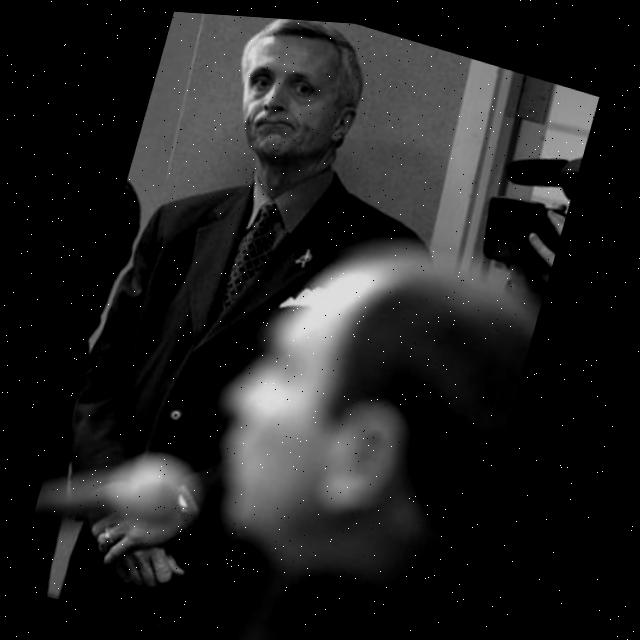face: (224, 17, 381, 188)
